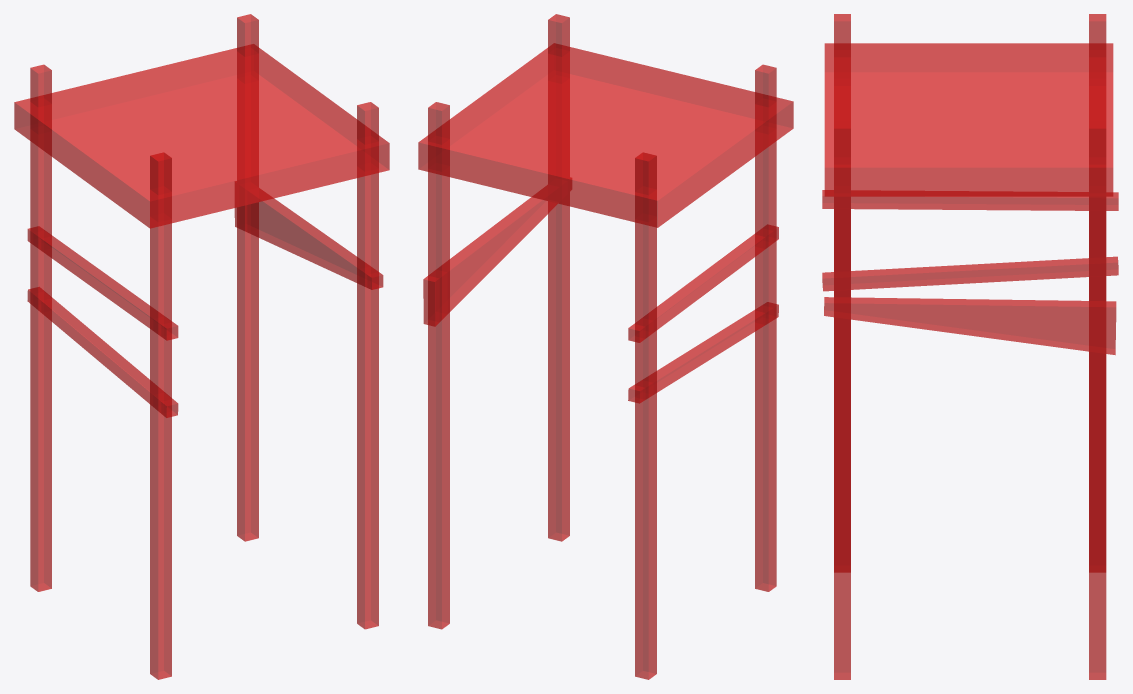
File: SM_Bld_Dock_01_Collision.fbx
3 views of the same model, side by side, from view 1: azimuth 30°, elevation 25°; view 2: azimuth 150°, elevation 25°; view 3: azimuth 270°, elevation 25° (orthographic). The views are drawn at different scales.
Parts seen in each view (by area): view 1: SM_Bld_Dock_01_Collision; view 2: SM_Bld_Dock_01_Collision; view 3: SM_Bld_Dock_01_Collision.
Part boxes in pixels (left/top/right/bottom): SM_Bld_Dock_01_Collision: left=14, top=14, right=389, bottom=679; SM_Bld_Dock_01_Collision: left=418, top=14, right=793, bottom=679; SM_Bld_Dock_01_Collision: left=822, top=14, right=1118, bottom=679.
Bounding box in the file's own units: 367 × 758 × 369.
